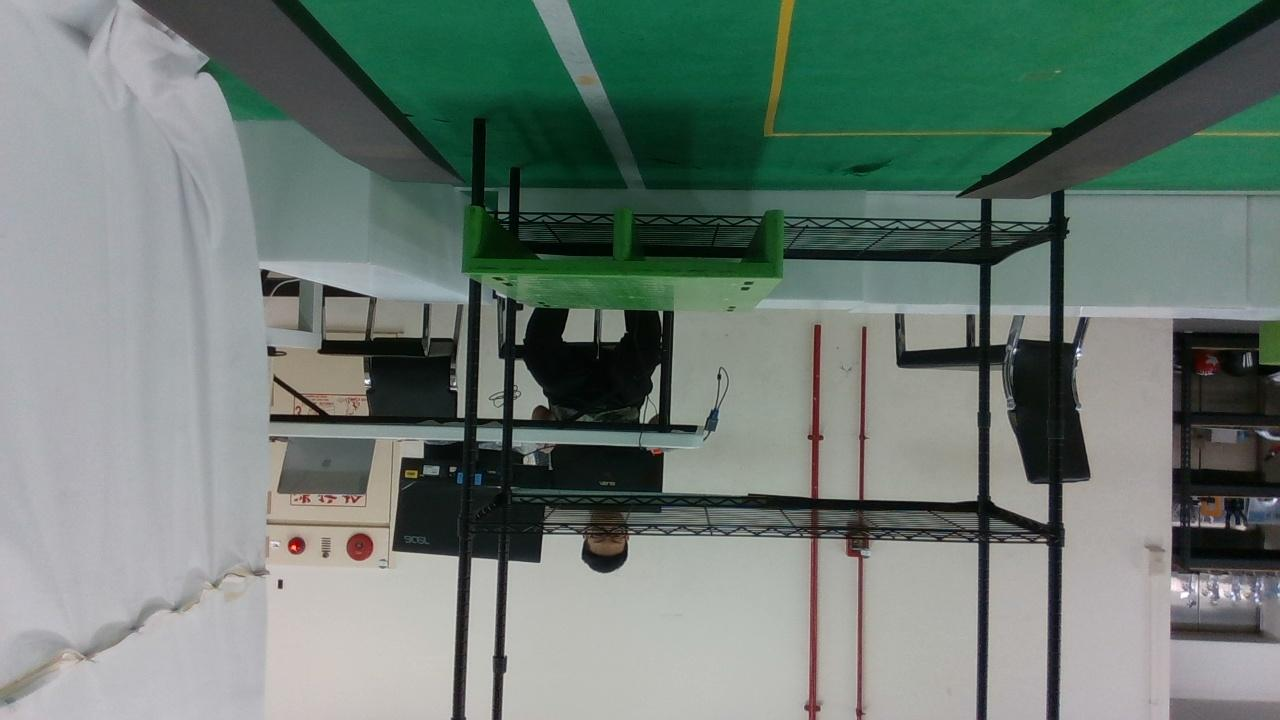Pallet: (462, 206, 788, 281)
